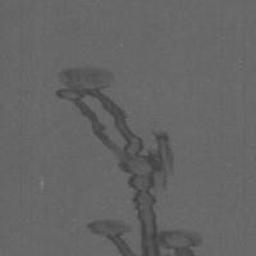Water spot: (54, 65, 204, 256)
